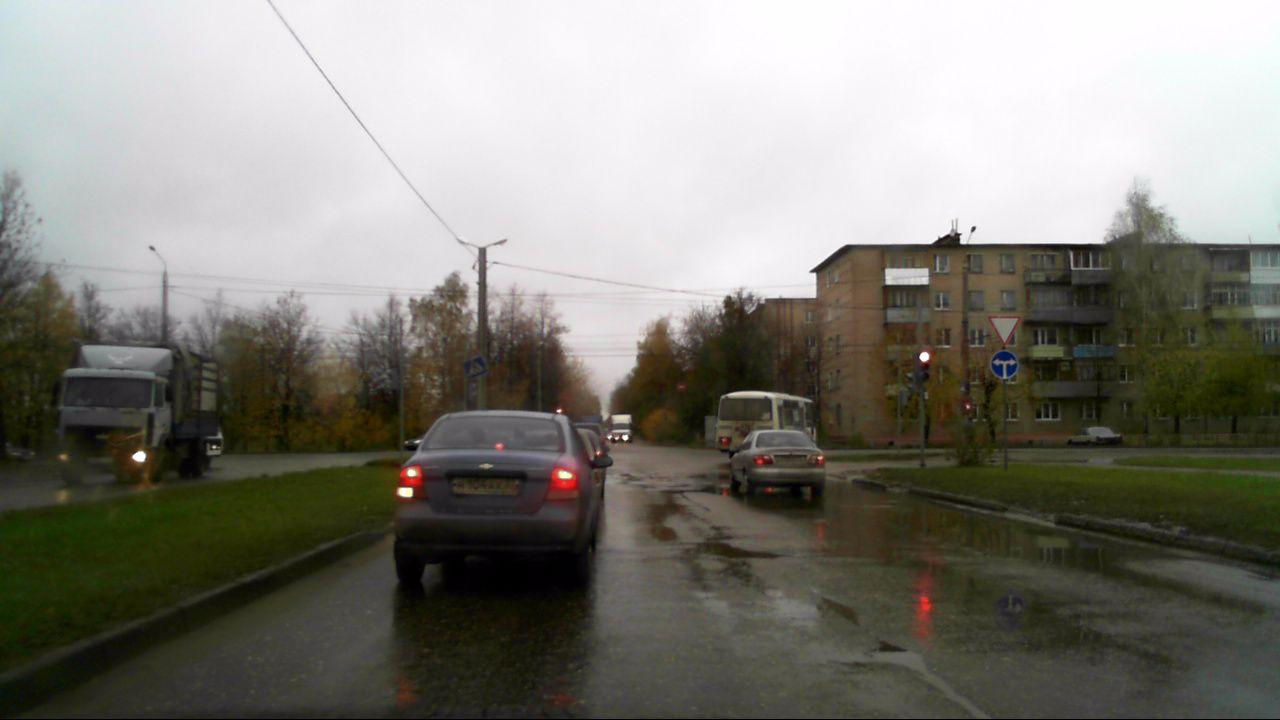2_4: (988, 313, 1021, 344)
4_1_6: (989, 349, 1019, 379)
5_19_2: (461, 355, 489, 378)
